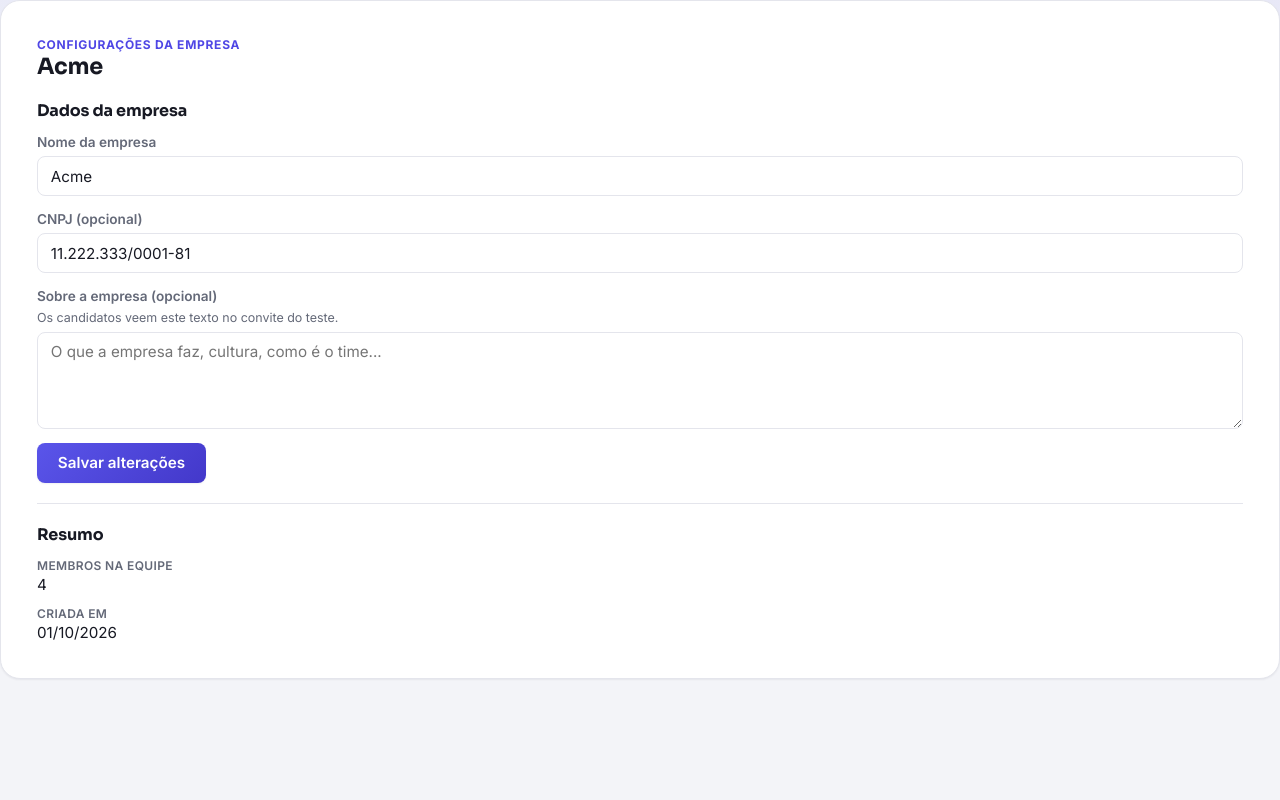
it: CompanySettingsPage › admin edita nome e CNPJ; o título (e o header) já mostram o nome novo
Check: the field labelled "CNPJ (opcional)" holds "11.222.333/0001-81", box [37,233,1243,273]
Replace the text in the field labelled "Nome da empresa" with "Acme Brasil" at (640, 176), box [37,156,1243,196]
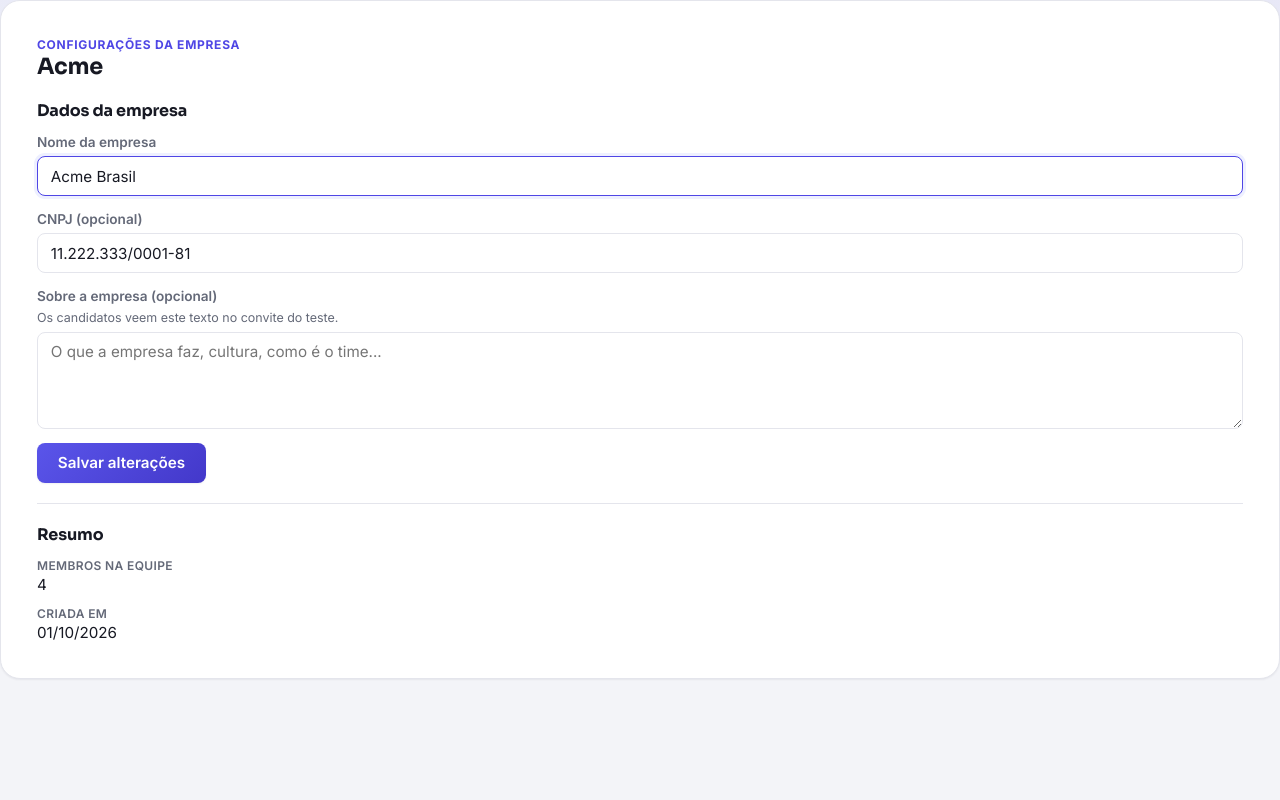
Click the button "Salvar alterações" at (121, 463), box [37,443,206,483]
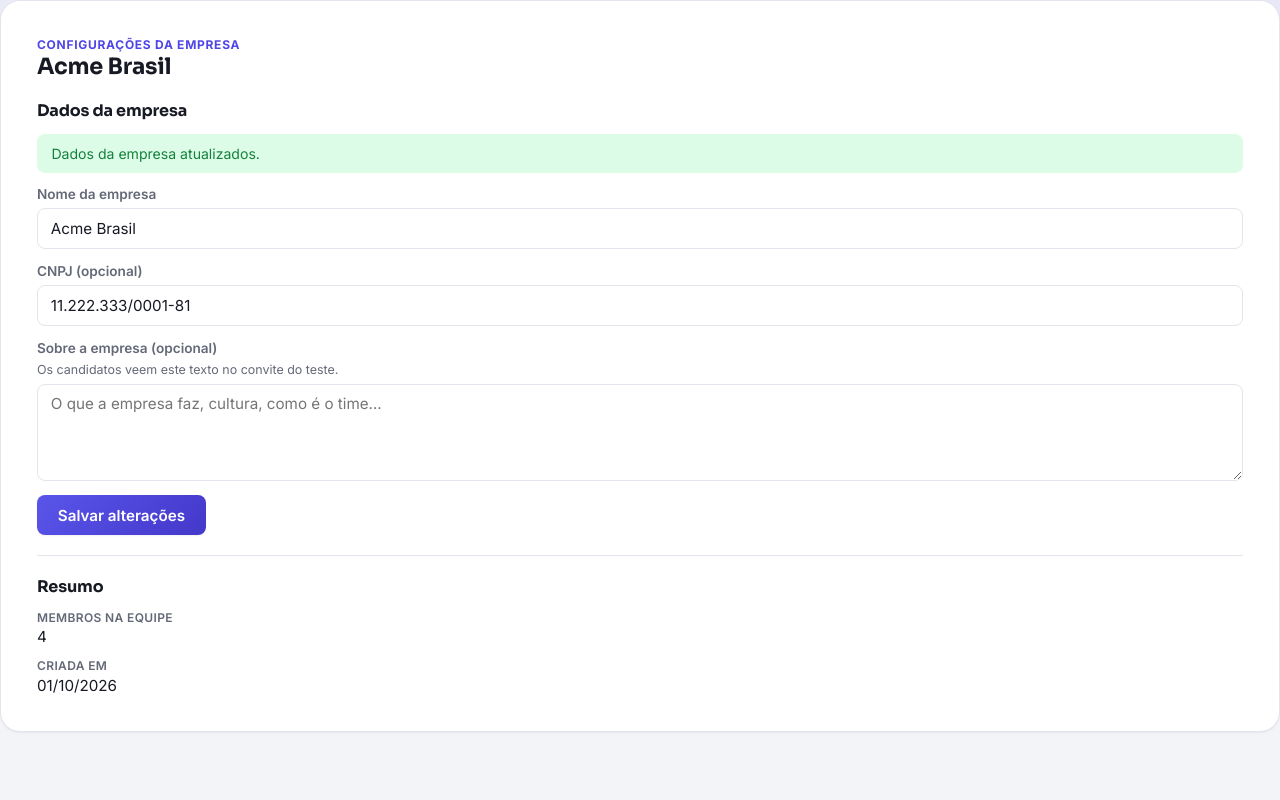
Check: the heading "Acme Brasil" is shown, box [37,52,171,80]
Check: the text "Dados da empresa atualizados." is shown, box [37,134,1243,173]
